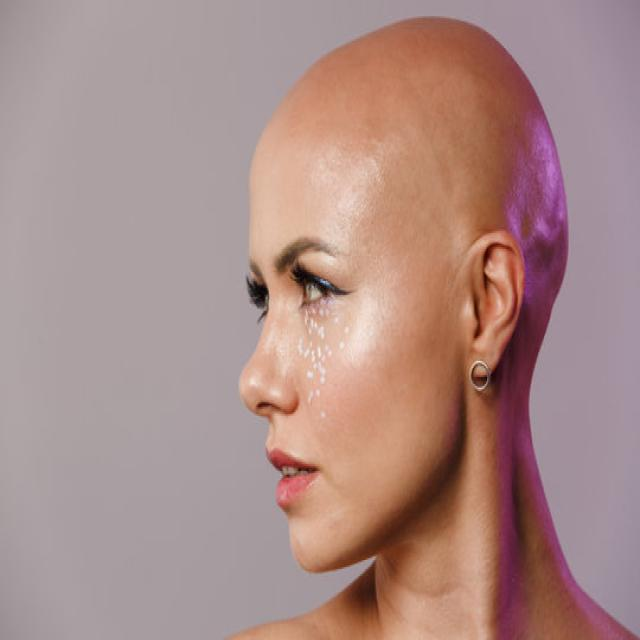Nonhelmet: (218, 2, 584, 593)
